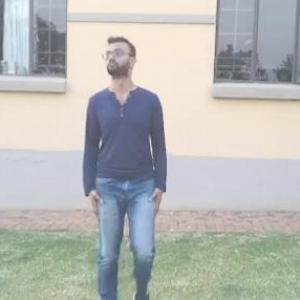follow: (75, 21, 172, 291)
